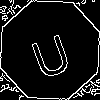U: (25, 25, 75, 81)
